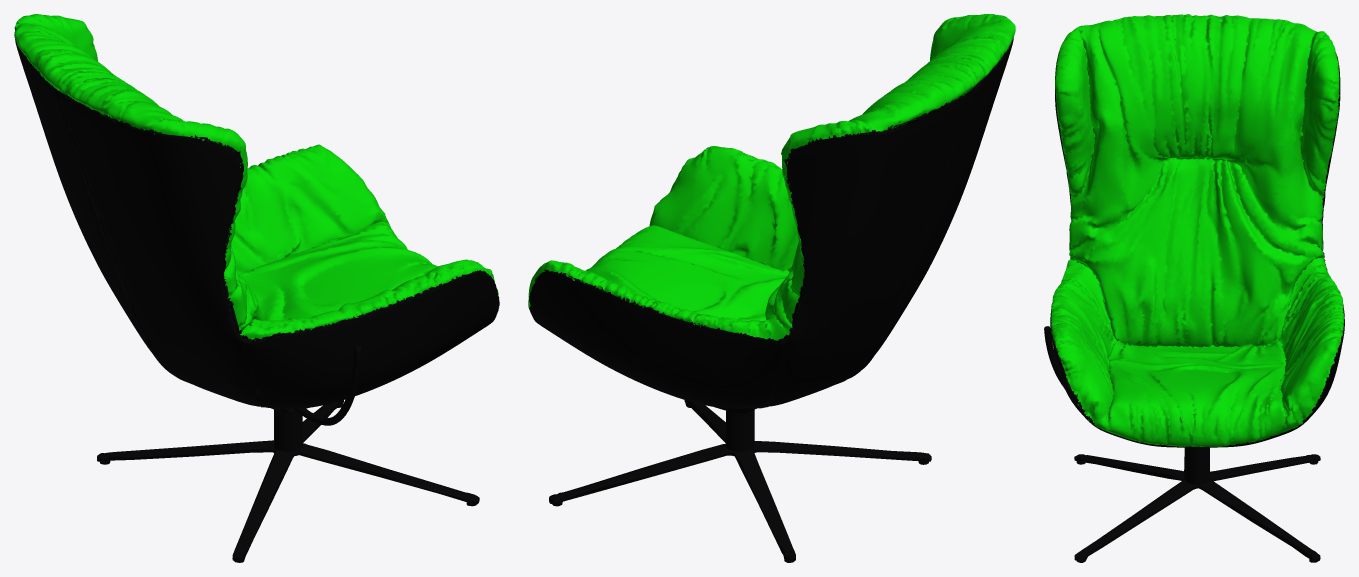
File: ArmchairLeyaWingbackReplica001.fbx
3 renders of one model, left to right at view 1: azimuth 30°, elevation 25°; view 2: azimuth 150°, elevation 25°; view 3: azimuth 270°, elevation 25°, orthographic. The views are drawn at different scales.
Visible parts, largest first — view 1: ArmchairLeyaWingbackReplica001; view 2: ArmchairLeyaWingbackReplica001; view 3: ArmchairLeyaWingbackReplica001.
Part boxes in pixels (x1,y1,x2,y2): ArmchairLeyaWingbackReplica001: (14, 14, 499, 562); ArmchairLeyaWingbackReplica001: (528, 14, 1015, 562); ArmchairLeyaWingbackReplica001: (1044, 14, 1344, 562).
Size of the model in its own units: 93.77 by 108 by 72.52.
